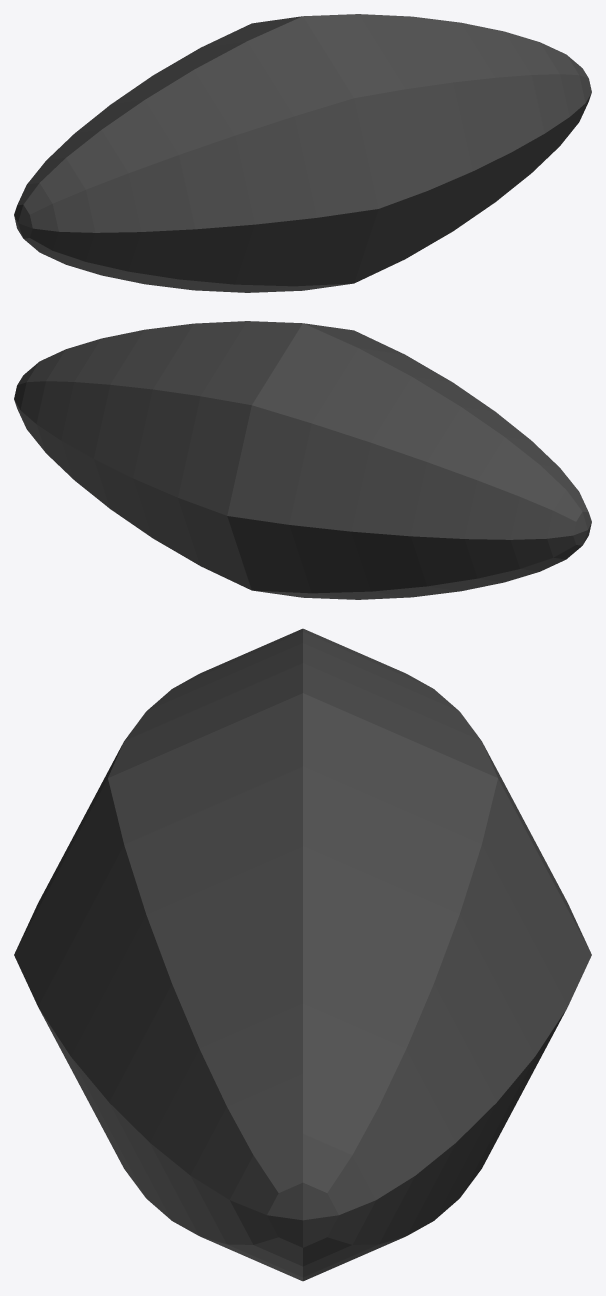
The model's file is ModularSwordKit_Knauf01.fbx.
The picture shows the model from 3 angles, top to bottom: view 1: azimuth 30°, elevation 25°; view 2: azimuth 150°, elevation 25°; view 3: azimuth 270°, elevation 25°; orthographic projection. The views are drawn at different scales.
Parts seen in each view (by area): view 1: Knauf01; view 2: Knauf01; view 3: Knauf01.
Part boxes in pixels (<box>): Knauf01: <box>14,14,591,292</box>; Knauf01: <box>14,321,591,599</box>; Knauf01: <box>14,628,591,1281</box>.
Bounding box in the file's own units: 47.63 × 21.92 × 21.92.
